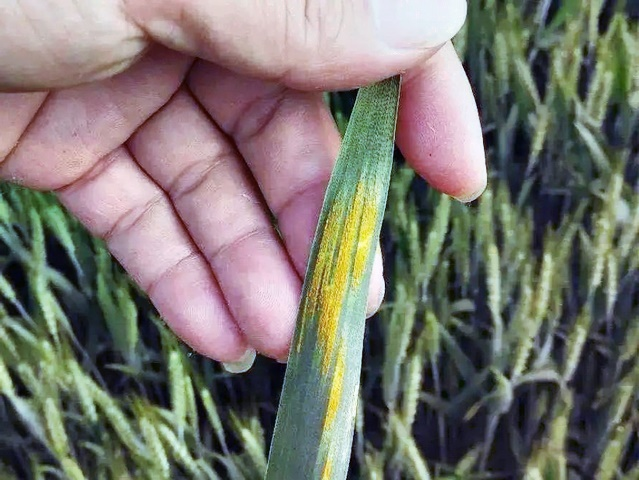Leaf Rust: (293, 181, 390, 394)
